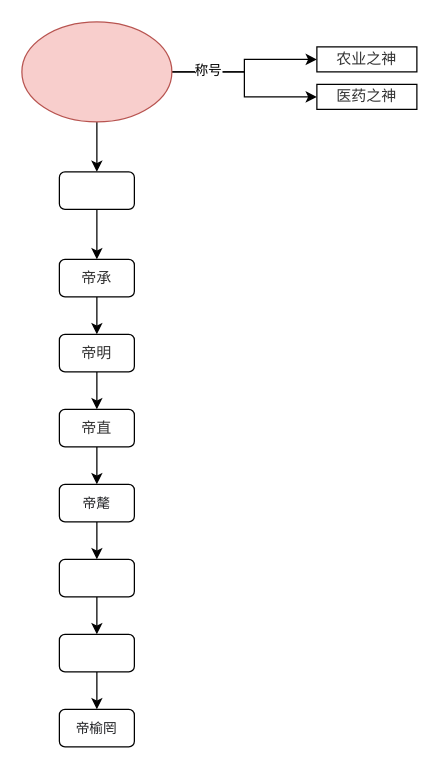
Image size: 439x769. Some labels were removed from this diagram. The centre of each missing label's shape, as x and y in pixels:
帝克: pixel 96 652
帝哀: pixel 96 577
帝魁: pixel 96 190
炎帝 姓姜/神农氏/ 魁隗氏、连山氏/烈山氏/赤帝: pixel 96 71
